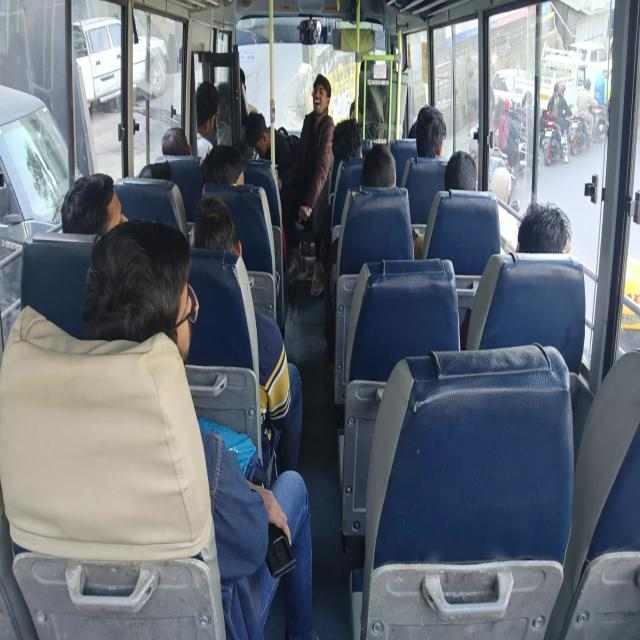person: (106, 256, 194, 375), (182, 206, 248, 269), (72, 171, 126, 247), (522, 208, 576, 278), (202, 149, 260, 203), (142, 150, 189, 200), (332, 130, 368, 173), (366, 162, 396, 208), (356, 48, 386, 94), (306, 72, 326, 131), (448, 159, 477, 199), (412, 121, 435, 170), (193, 88, 211, 136), (249, 125, 276, 156), (162, 112, 182, 153), (230, 64, 251, 102)
